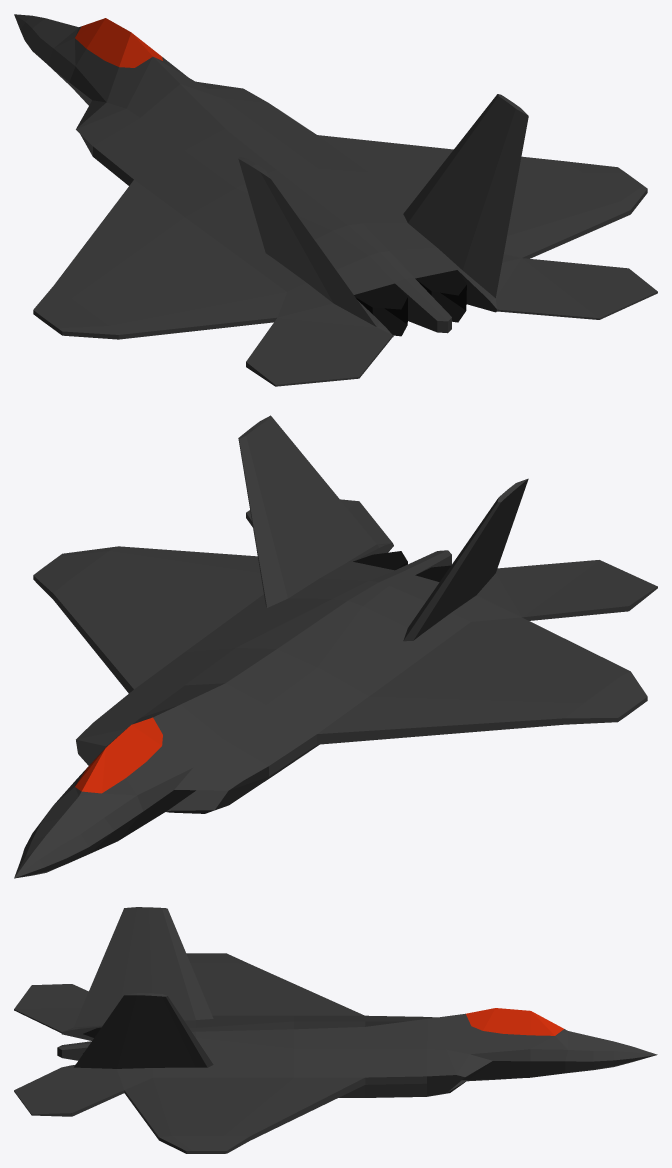
File: falcon-6.obj
The picture shows the model from 3 angles, top to bottom: view 1: azimuth 30°, elevation 25°; view 2: azimuth 150°, elevation 25°; view 3: azimuth 270°, elevation 25°; orthographic projection. The views are drawn at different scales.
Parts seen in each view (by area): view 1: Cube; view 2: Cube; view 3: Cube.
Part boxes in pixels (x1,y1,x2,y2): Cube: (14,14,657,386); Cube: (14,415,657,878); Cube: (14,907,657,1153).
Bounding box in the file's own units: 16.53 × 5.14 × 22.76.
